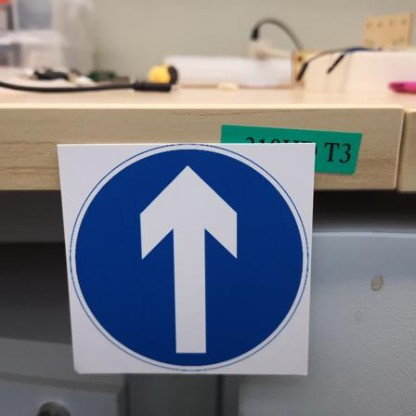forward: (58, 133, 334, 385)
